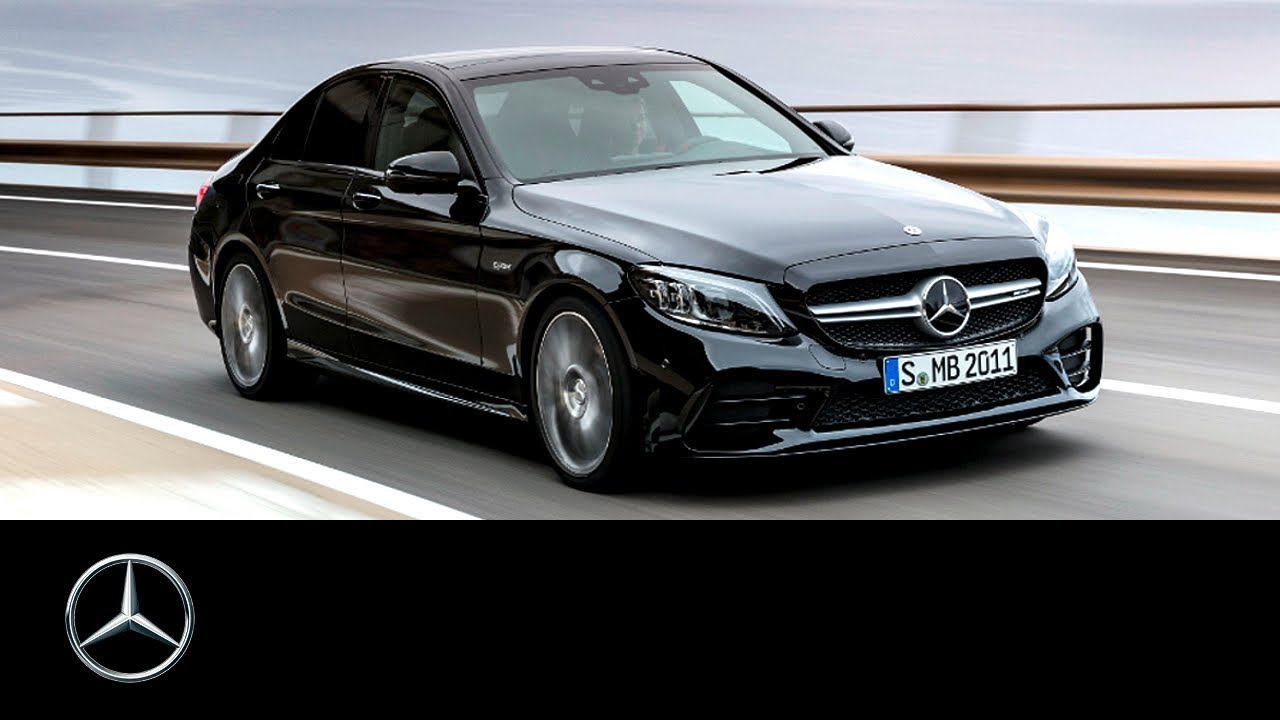cclass: (178, 40, 1124, 489)
